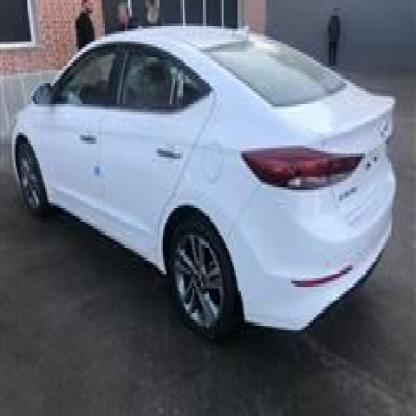Car: (5, 29, 402, 343)
